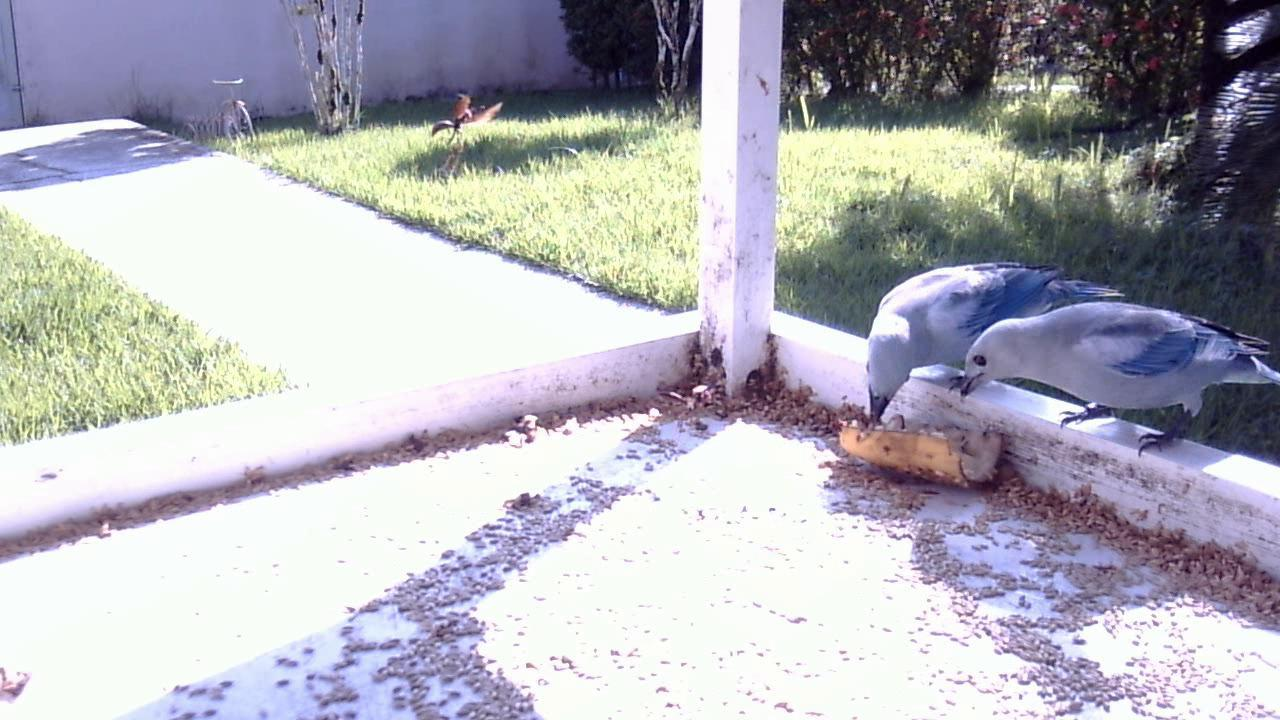sanhaco_da_amazonia: (939, 278, 1275, 456), (857, 248, 1109, 426)
